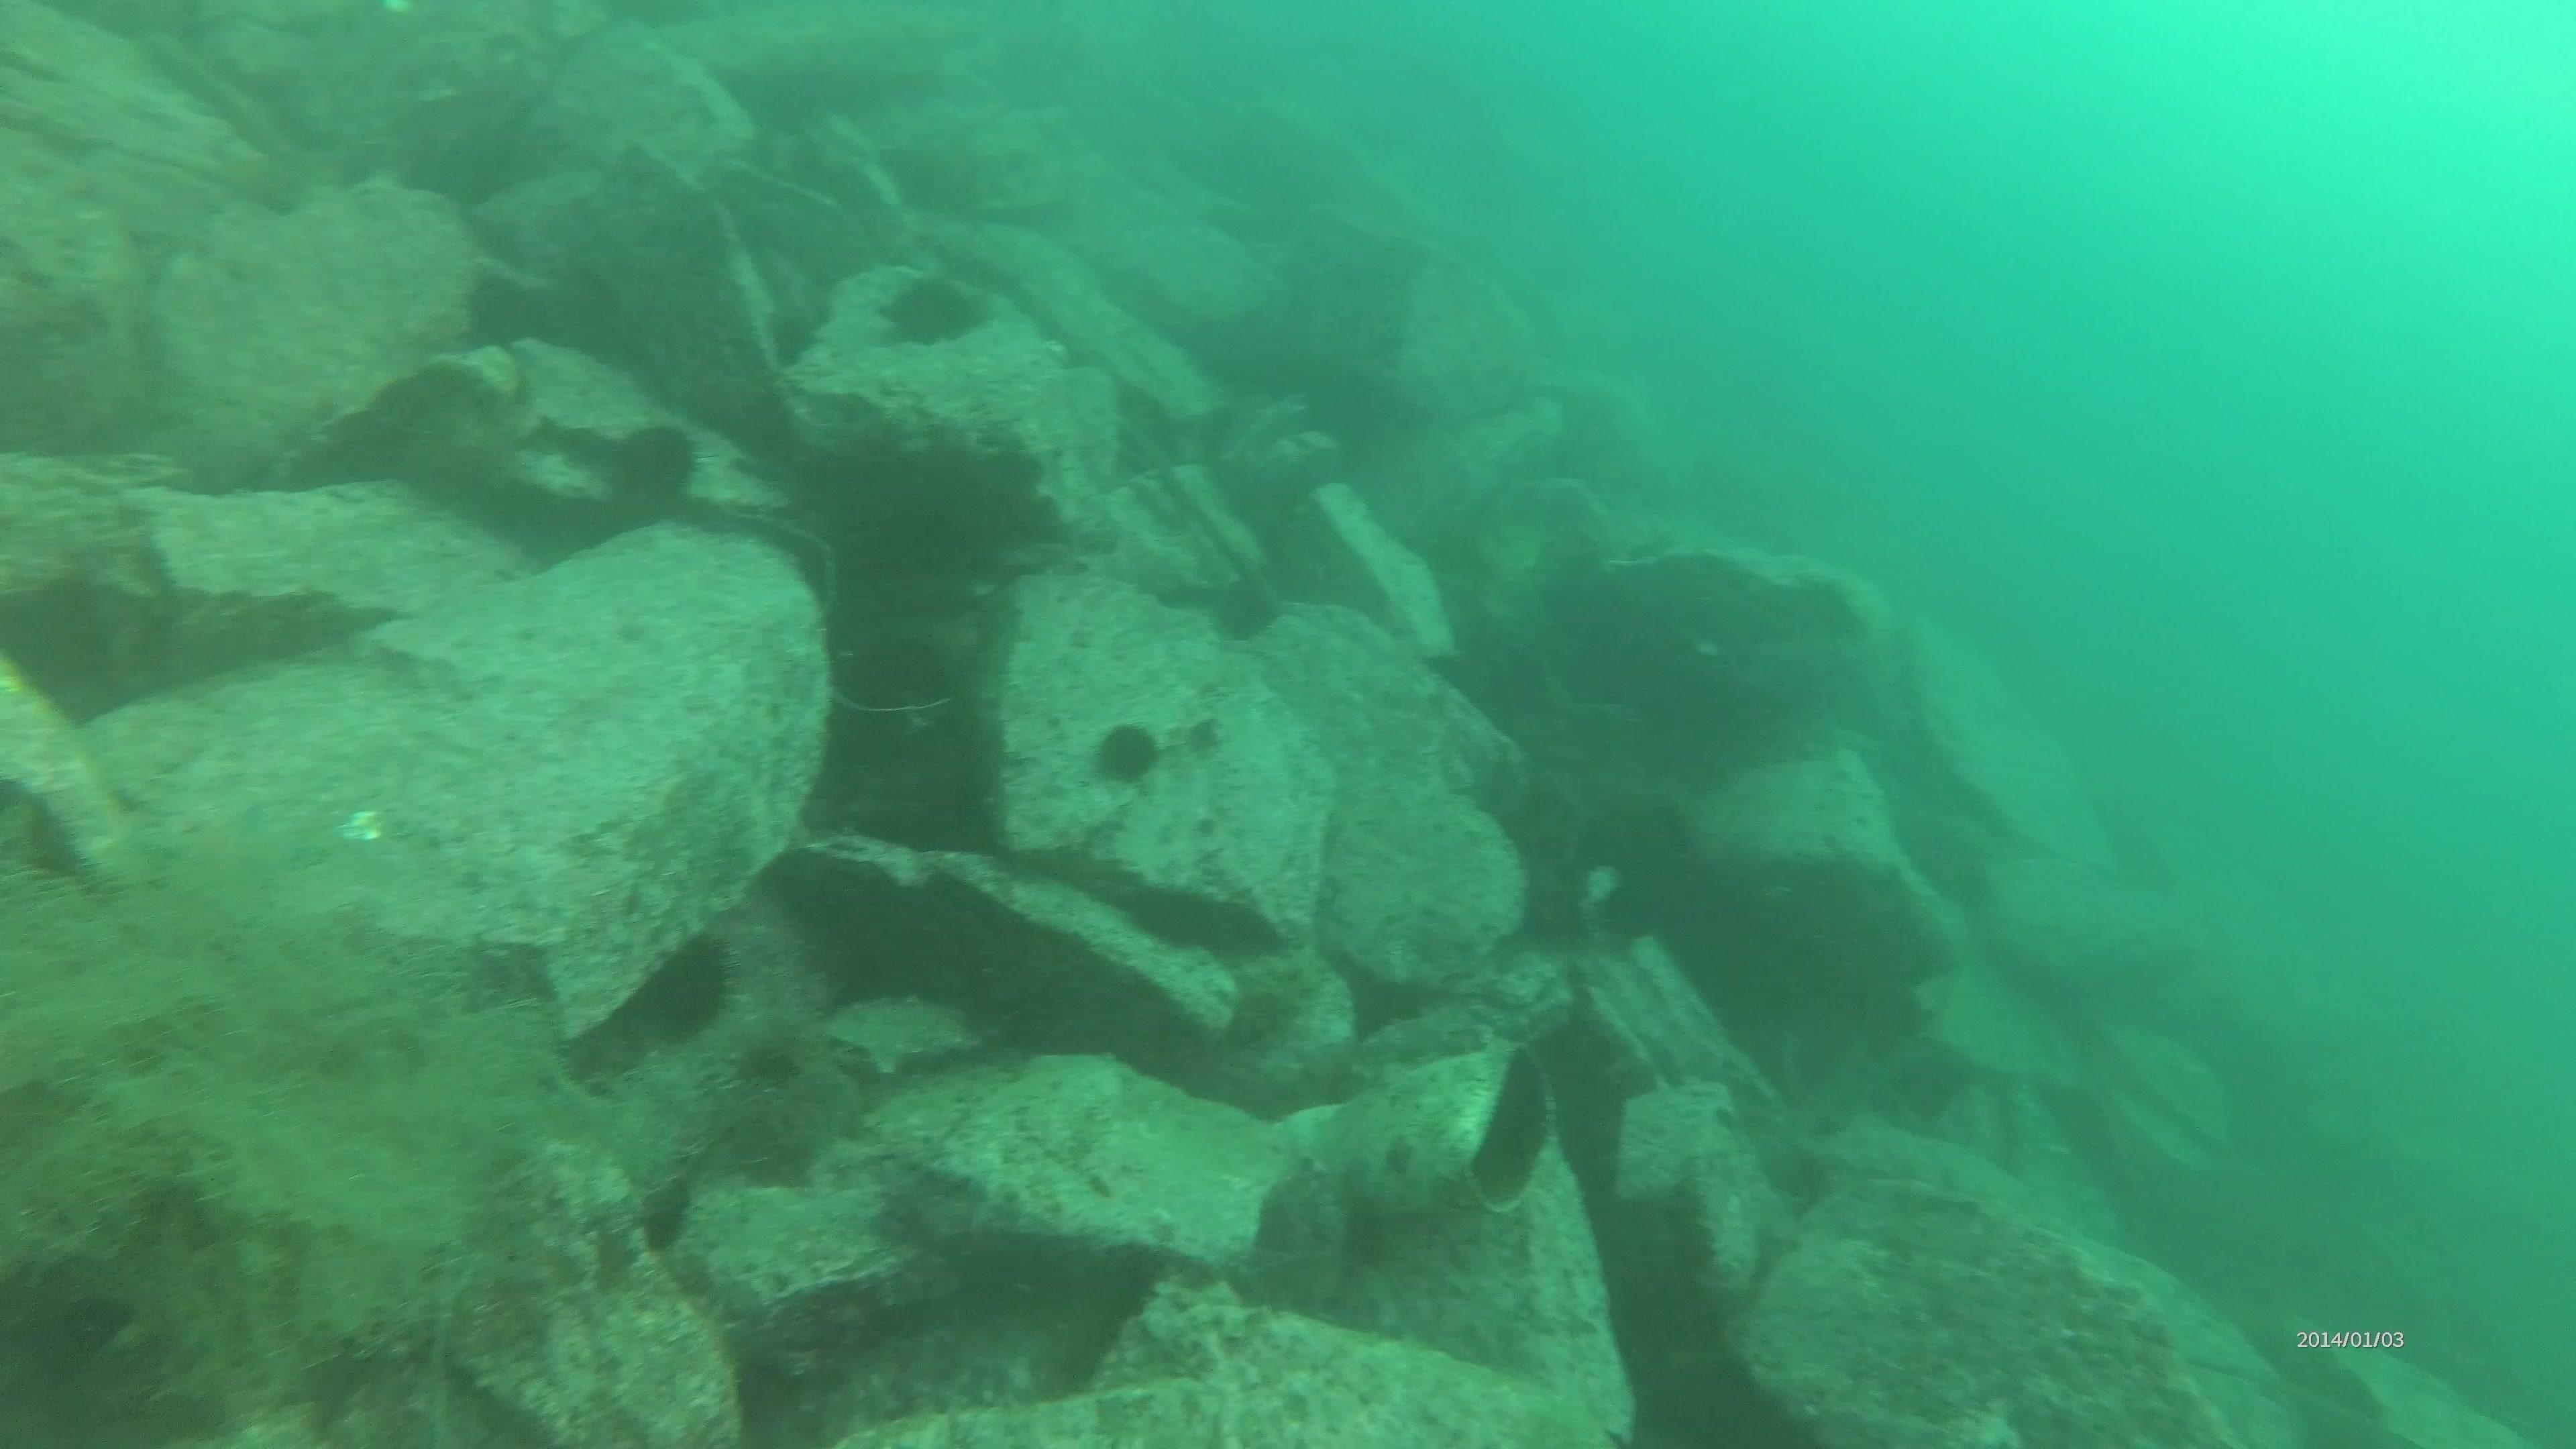echinus: (619, 927, 741, 1049), (602, 419, 708, 517), (874, 267, 991, 354), (1085, 715, 1169, 793)
